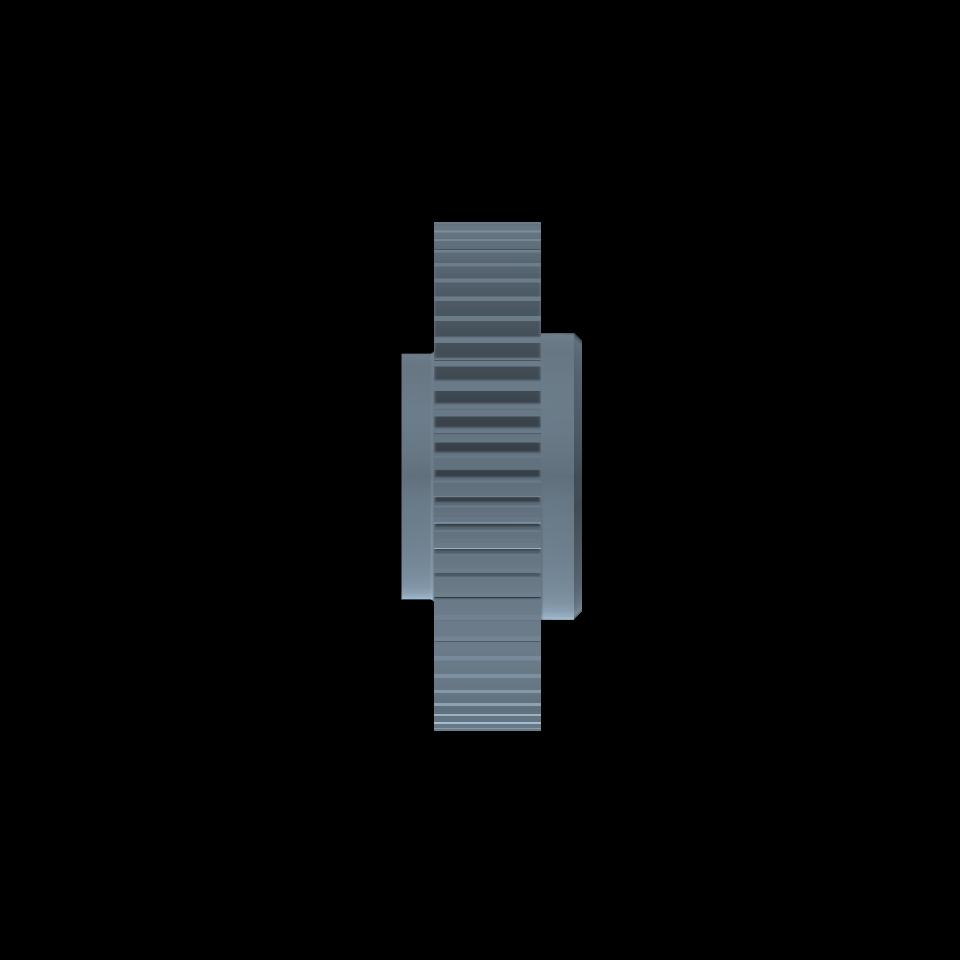Straight: (435, 222, 541, 730)
